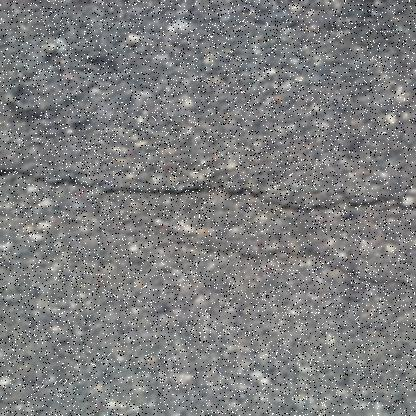Cracks: (0, 163, 416, 219)
